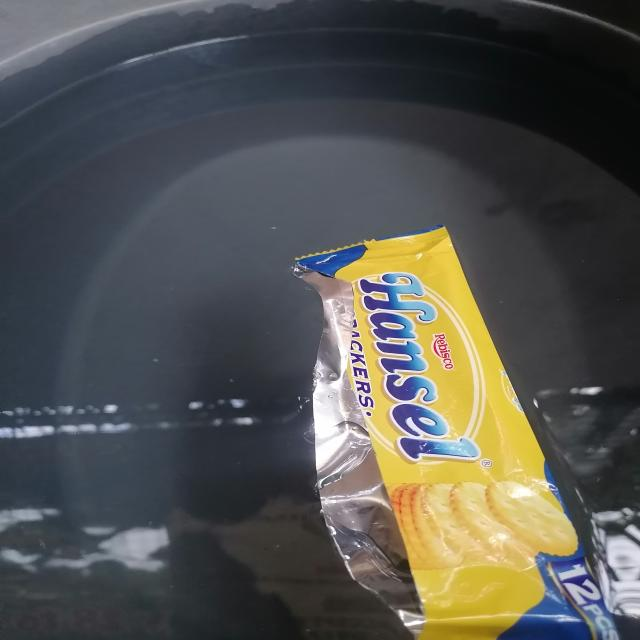Plastic Wrapper: (294, 228, 618, 640)
